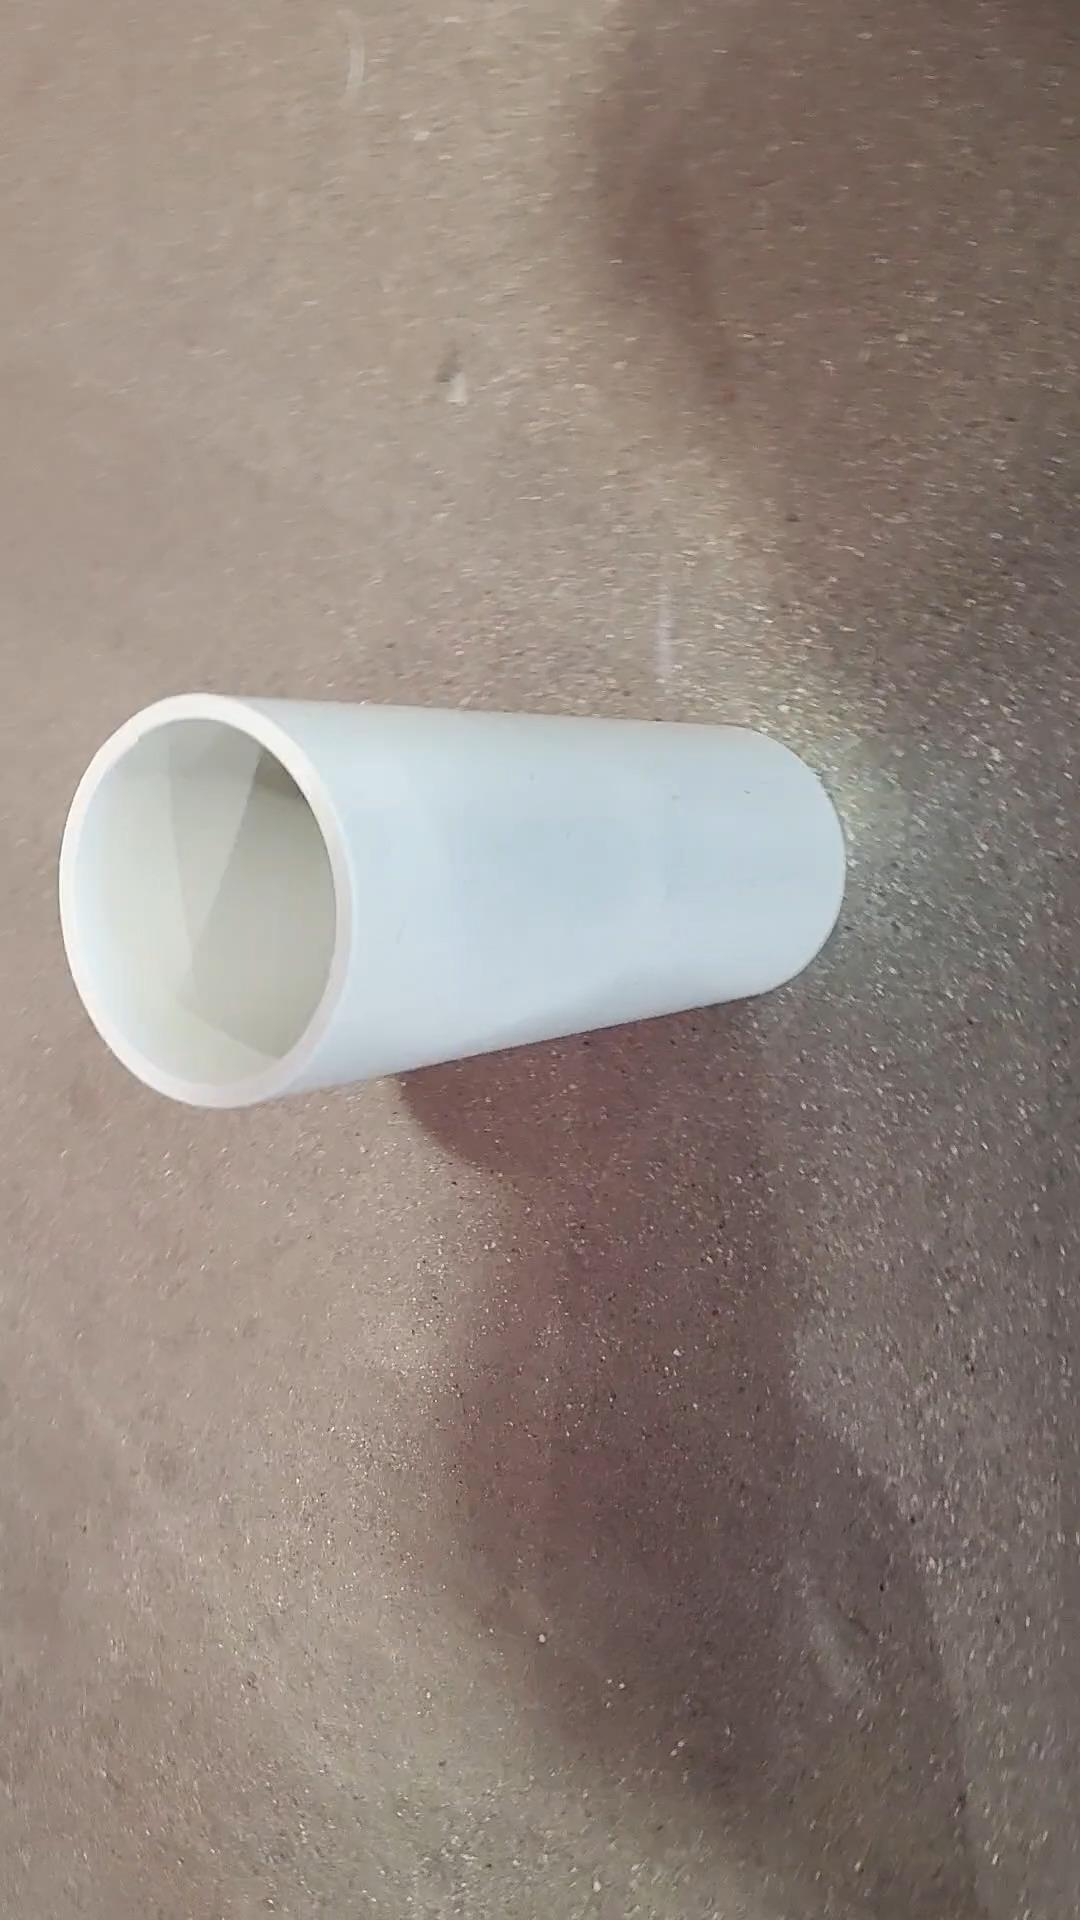coral: (59, 687, 857, 1117)
